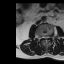CCS_normal: (45, 34, 46, 42)
LFS_normal: (49, 33, 51, 39)
LLS_normal: (46, 33, 48, 40)
RFS_normal: (40, 34, 43, 39)
RLS_normal: (43, 34, 45, 40)
